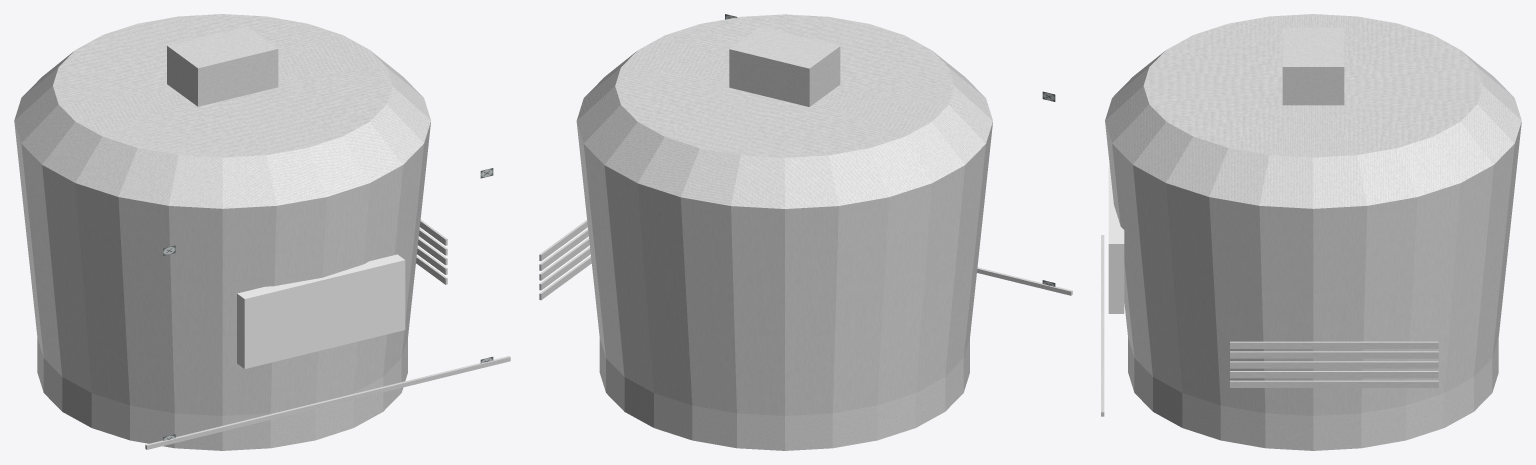
Rendered from kitchenricecooker.obj.
3 renders of one model, left to right at view 1: azimuth 30°, elevation 25°; view 2: azimuth 150°, elevation 25°; view 3: azimuth 270°, elevation 25°, orthographic.
Parts seen in each view (by area): view 1: Case, Trim, Black, Display; view 2: Case, Trim, Black; view 3: Case, Trim, Black, Display.
Part boxes in pixels (left/top/right/bottom): Case: left=14, top=122, right=430, bottom=415; Trim: left=14, top=14, right=510, bottom=449; Black: left=37, top=26, right=407, bottom=450; Display: left=237, top=254, right=405, bottom=368; Case: left=576, top=122, right=992, bottom=415; Trim: left=539, top=14, right=1072, bottom=300; Black: left=599, top=26, right=969, bottom=450; Case: left=1105, top=121, right=1521, bottom=415; Trim: left=1101, top=14, right=1521, bottom=416; Black: left=1128, top=27, right=1498, bottom=450; Display: left=1108, top=165, right=1124, bottom=313.
Bounding box in the file's own units: 0.546 × 0.465 × 0.545.
